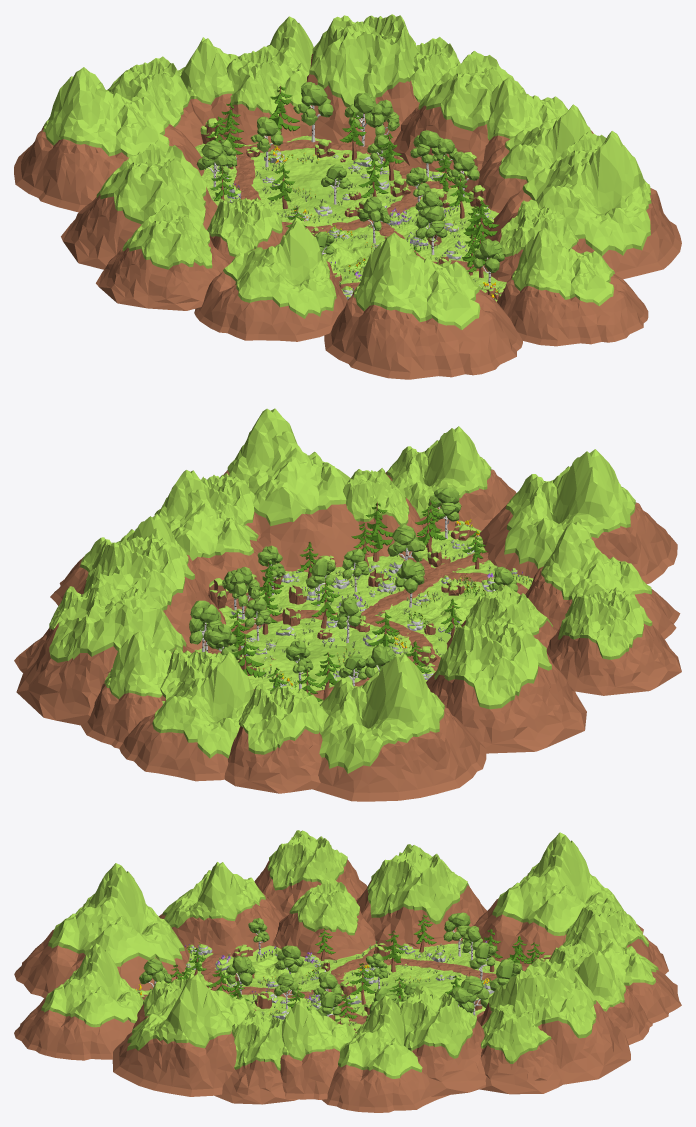
3 views of the same model, one above another, from view 1: azimuth 30°, elevation 25°; view 2: azimuth 150°, elevation 25°; view 3: azimuth 270°, elevation 25° (orthographic). The views are drawn at different scales.
Parts seen in each view (by area): view 1: PP_Forest_Mountain_Moss_01_4.001, PP_Forest_Mountain_Moss_01_8, PP_Forest_Mountain_Moss_01_6, PP_Forest_Mountain_Moss_01, PP_Forest_Mountain_Moss_01_4, PP_Forest_Mountain_Moss_02_3, PP_Forest_Mountain_Moss_02_5, PP_Forest_Mountain_Moss_02_9, PP_Forest_Mountain_Moss_02_2, PP_Forest_Mountain_Moss_01_5, PP_Forest_Mountain_Moss_02_6, PP_Forest_Mountain_Moss_02_10 (+25 smaller); view 2: PP_Forest_Mountain_Moss_01_8, PP_Forest_Mountain_Moss_02_5, PP_Forest_Mountain_Moss_01_4.001, PP_Forest_Mountain_Moss_01_6, PP_Forest_Mountain_Moss_02_3, PP_Forest_Mountain_Moss_02_9, PP_Forest_Mountain_Moss_01_1, PP_Forest_Mountain_Moss_02_10, PP_Forest_Mountain_Moss_01_4, PP_Forest_Mountain_Moss_01, PP_Forest_Mountain_Moss_01_5, PP_Forest_Mountain_Moss_02_2 (+26 smaller); view 3: PP_Forest_Mountain_Moss_01_4.001, PP_Forest_Mountain_Moss_01_6, PP_Forest_Mountain_Moss_02_3, PP_Forest_Mountain_Moss_01_4, PP_Forest_Mountain_Moss_01_8, PP_Forest_Mountain_Moss_02_5, PP_Forest_Mountain_Moss_01_7, PP_Forest_Mountain_Moss_01, PP_Forest_Mountain_Moss_02_2, PP_Forest_Mountain_Moss_02_1, PP_Forest_Mountain_Moss_02_7, PP_Forest_Mountain_Moss_01_5 (+23 smaller).
Part boxes in pixels (x1,y1,x2,y2): PP_Forest_Mountain_Moss_01_4.001: (324, 232, 522, 379); PP_Forest_Mountain_Moss_01_8: (14, 67, 204, 212); PP_Forest_Mountain_Moss_01_6: (485, 131, 681, 279); PP_Forest_Mountain_Moss_01: (194, 217, 347, 341); PP_Forest_Mountain_Moss_01_4: (497, 227, 648, 346); PP_Forest_Mountain_Moss_02_3: (306, 14, 420, 145); PP_Forest_Mountain_Moss_02_5: (61, 140, 217, 269); PP_Forest_Mountain_Moss_02_9: (96, 201, 229, 310); PP_Forest_Mountain_Moss_02_2: (393, 51, 514, 172); PP_Forest_Mountain_Moss_01_5: (478, 104, 592, 213); PP_Forest_Mountain_Moss_02_6: (221, 45, 301, 145); PP_Forest_Mountain_Moss_02_10: (107, 56, 202, 146); PP_Forest_Mountain_Moss_01_8: (313, 654, 486, 801); PP_Forest_Mountain_Moss_02_5: (426, 618, 586, 753); PP_Forest_Mountain_Moss_01_4.001: (479, 449, 677, 583); PP_Forest_Mountain_Moss_01_6: (223, 408, 362, 572); PP_Forest_Mountain_Moss_02_3: (16, 572, 198, 725); PP_Forest_Mountain_Moss_02_9: (546, 587, 681, 695); PP_Forest_Mountain_Moss_01_1: (119, 651, 253, 781); PP_Forest_Mountain_Moss_02_10: (224, 683, 328, 793); PP_Forest_Mountain_Moss_01_4: (385, 426, 516, 531); PP_Forest_Mountain_Moss_01: (525, 521, 680, 639); PP_Forest_Mountain_Moss_01_5: (154, 470, 267, 599); PP_Forest_Mountain_Moss_02_2: (78, 533, 225, 649); PP_Forest_Mountain_Moss_01_4.001: (14, 863, 189, 997); PP_Forest_Mountain_Moss_01_6: (112, 973, 255, 1096); PP_Forest_Mountain_Moss_02_3: (477, 958, 630, 1084); PP_Forest_Mountain_Moss_01_4: (14, 943, 143, 1060); PP_Forest_Mountain_Moss_01_8: (473, 832, 643, 966); PP_Forest_Mountain_Moss_02_5: (356, 844, 487, 948); PP_Forest_Mountain_Moss_01_7: (321, 995, 449, 1112); PP_Forest_Mountain_Moss_01: (159, 862, 283, 956); PP_Forest_Mountain_Moss_02_2: (396, 985, 486, 1096); PP_Forest_Mountain_Moss_02_1: (480, 1004, 562, 1094); PP_Forest_Mountain_Moss_02_7: (272, 878, 375, 960); PP_Forest_Mountain_Moss_01_5: (280, 999, 355, 1099).
Size of the model in its own units: 118 by 24.66 by 141.
Materials: 1 (1 with a texture image).
